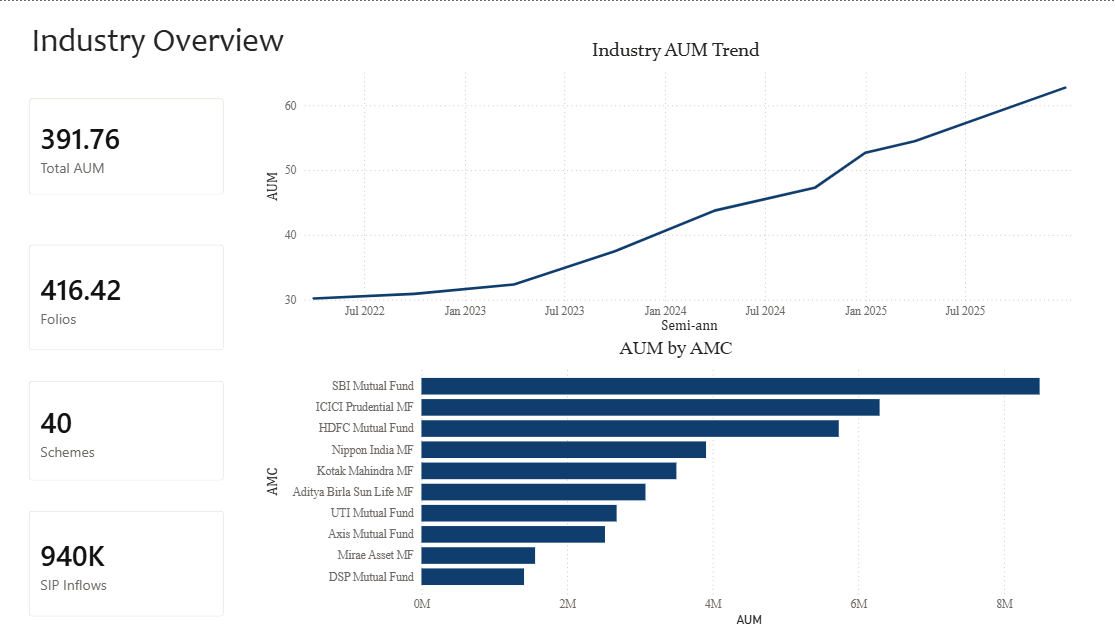

The dashboard page shown, as its layout file describes it:
{"tool":"powerbi","page":{"name":"Industry Overview","canvas":[1280,720],"ordinal":0},"visuals":[{"type":"cardVisual","fields":{"Data":["Sum(aum_by_fund_house_cleaned.aum_lakh_crore)"]},"box":[16.5,94.7,258,144.1],"z":0},{"type":"cardVisual","fields":{"Data":["CountNonNull(fund_master_cleaned.amfi_code)"]},"box":[16.5,417.2,258,148.2],"z":1000},{"type":"cardVisual","fields":{"Data":["Sum(monthly_sip_inflows_cleaned.sip_inflow_crore)"]},"box":[16.5,565.4,258,155.1],"z":2000},{"type":"cardVisual","fields":{"Data":["Sum(industry_folio_count_cleaned.total_folios_crore)"]},"box":[16.5,262.1,258,155.1],"z":3000},{"type":"lineChart","title":"Industry AUM Trend","fields":{"Y":["Sum(aum_by_fund_house_cleaned.aum_lakh_crore)"],"Category":["aum_by_fund_house_cleaned.date.Variation.Date Hierarchy.Year","aum_by_fund_house_cleaned.date.Variation.Date Hierarchy.Quarter","aum_by_fund_house_cleaned.date.Variation.Date Hierarchy.Month","aum_by_fund_house_cleaned.date.Variation.Date Hierarchy.Day"]},"box":[300.5,42.5,946.8,341.7],"z":4000},{"type":"clusteredBarChart","title":"AUM by AMC","fields":{"Y":["Sum(aum_by_fund_house_cleaned.aum_crore)"],"Category":["aum_by_fund_house_cleaned.fund_house"]},"box":[300.5,384.2,946.8,336.2],"z":5000},{"type":"textbox","box":[16.5,16.5,321.1,78.2],"z":6000}]}

Visuals, with their boxes in screenshot pixels (x1, y1, x2, y2), scaled from the page's 1280x720 canvas onto the 1115x627 screenshot:
cardVisual - Sum(aum_by_fund_house_cleaned.aum_lakh_crore): 14 82 239 208
cardVisual - CountNonNull(fund_master_cleaned.amfi_code): 14 363 239 492
cardVisual - Sum(monthly_sip_inflows_cleaned.sip_inflow_crore): 14 492 239 626
cardVisual - Sum(industry_folio_count_cleaned.total_folios_crore): 14 228 239 363
"Industry AUM Trend" lineChart: 262 37 1087 335
"AUM by AMC" clusteredBarChart: 262 335 1087 626
textbox: 14 14 294 82
